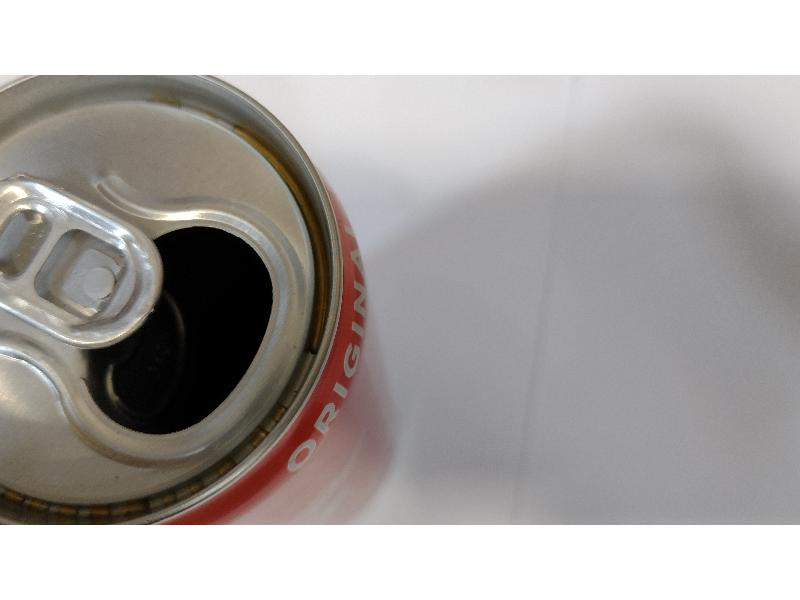can: (1, 73, 393, 520)
